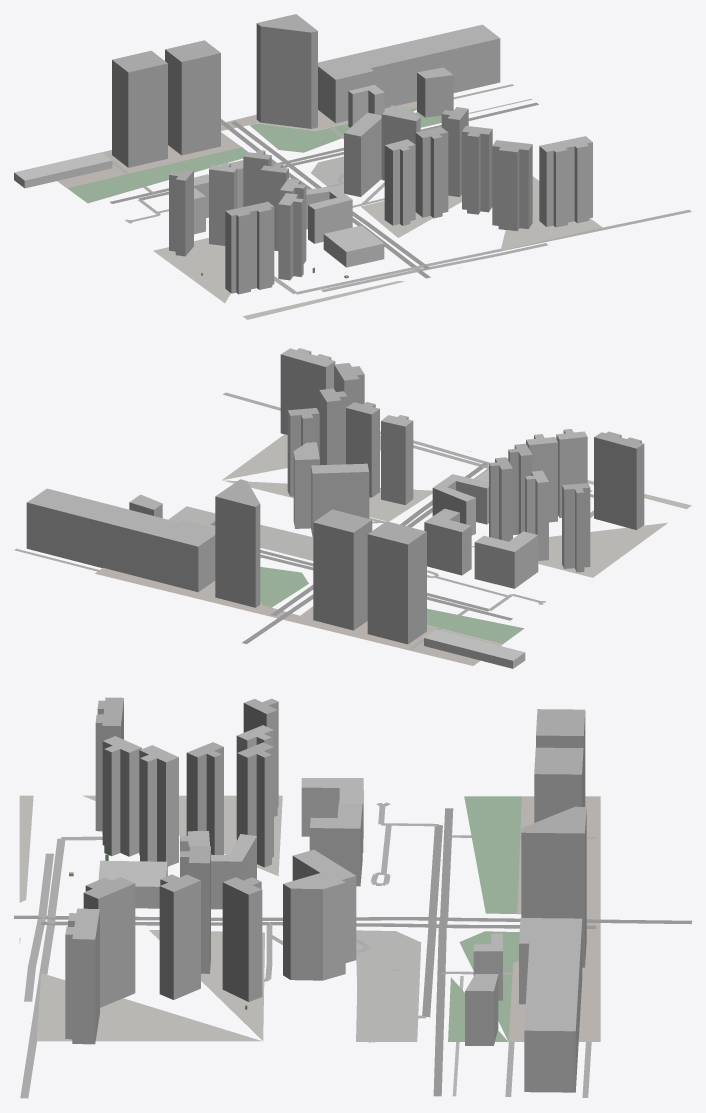
3 views of the same model, one above another, from view 1: azimuth 30°, elevation 25°; view 2: azimuth 150°, elevation 25°; view 3: azimuth 270°, elevation 25° (orthographic). The views are drawn at different scales.
Size of the model in its own units: 659 by 129 by 584.
